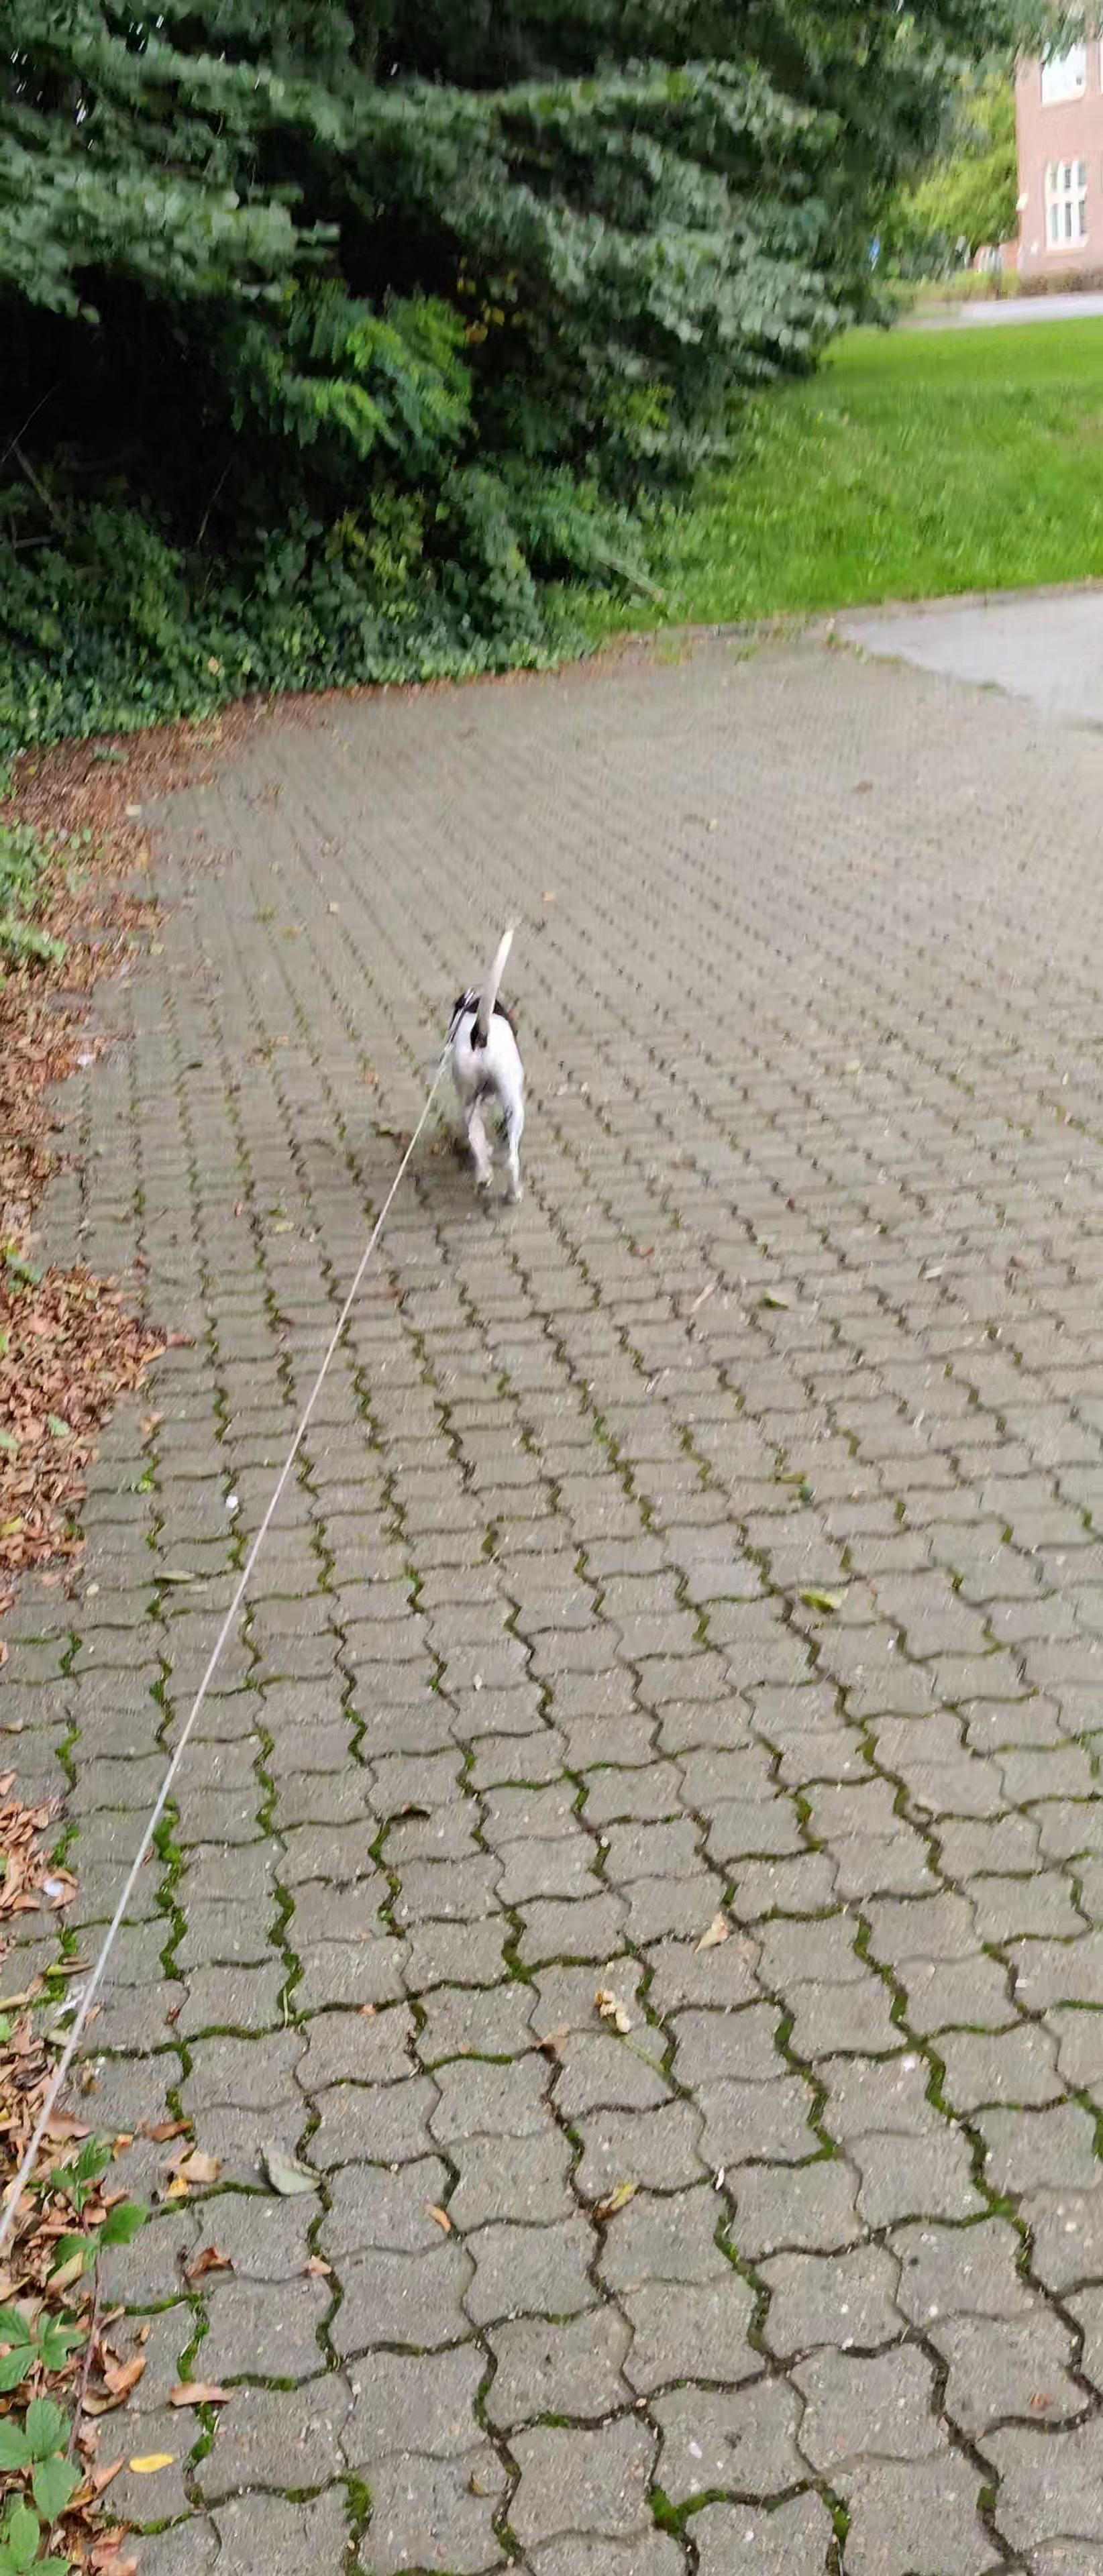Dog: (421, 915, 565, 1221)
